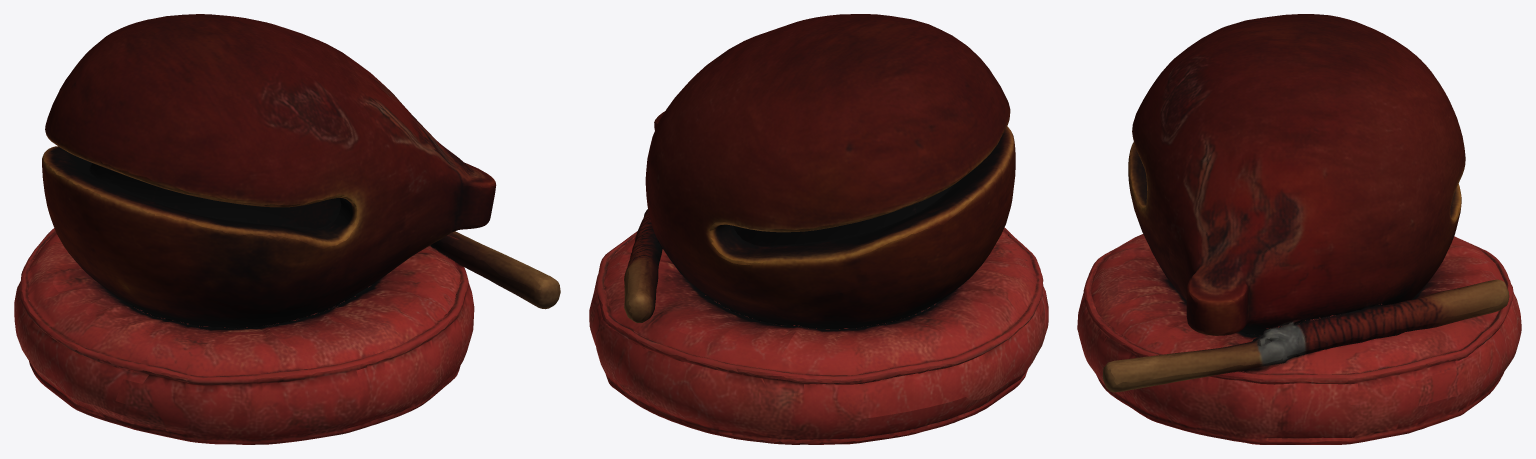
File: PROP-013.glb
3 renders of one model, left to right at view 1: azimuth 30°, elevation 25°; view 2: azimuth 150°, elevation 25°; view 3: azimuth 270°, elevation 25°, orthographic. The views are drawn at different scales.
Visible parts, largest first — view 1: wooden-fish-body, wooden-fish-cushion, wooden-fish-cushion-rim, wooden-fish-mallet; view 2: wooden-fish-body, wooden-fish-cushion, wooden-fish-cushion-rim, wooden-fish-mallet; view 3: wooden-fish-body, wooden-fish-cushion, wooden-fish-cushion-rim, wooden-fish-mallet.
Part boxes in pixels (<box>): wooden-fish-body: <box>42,14,496,328</box>; wooden-fish-cushion: <box>14,228,474,444</box>; wooden-fish-cushion-rim: <box>25,233,462,377</box>; wooden-fish-mallet: <box>430,231,560,309</box>; wooden-fish-body: <box>645,14,1015,329</box>; wooden-fish-cushion: <box>589,227,1048,444</box>; wooden-fish-cushion-rim: <box>602,231,1038,375</box>; wooden-fish-mallet: <box>624,209,662,322</box>; wooden-fish-body: <box>1128,14,1465,336</box>; wooden-fish-cushion: <box>1077,234,1521,444</box>; wooden-fish-cushion-rim: <box>1090,234,1506,374</box>; wooden-fish-mallet: <box>1102,279,1509,392</box>.
Bounding box in the file's own units: 0.32 × 0.2481 × 0.3173.
Materials: 1 (1 with a texture image).
